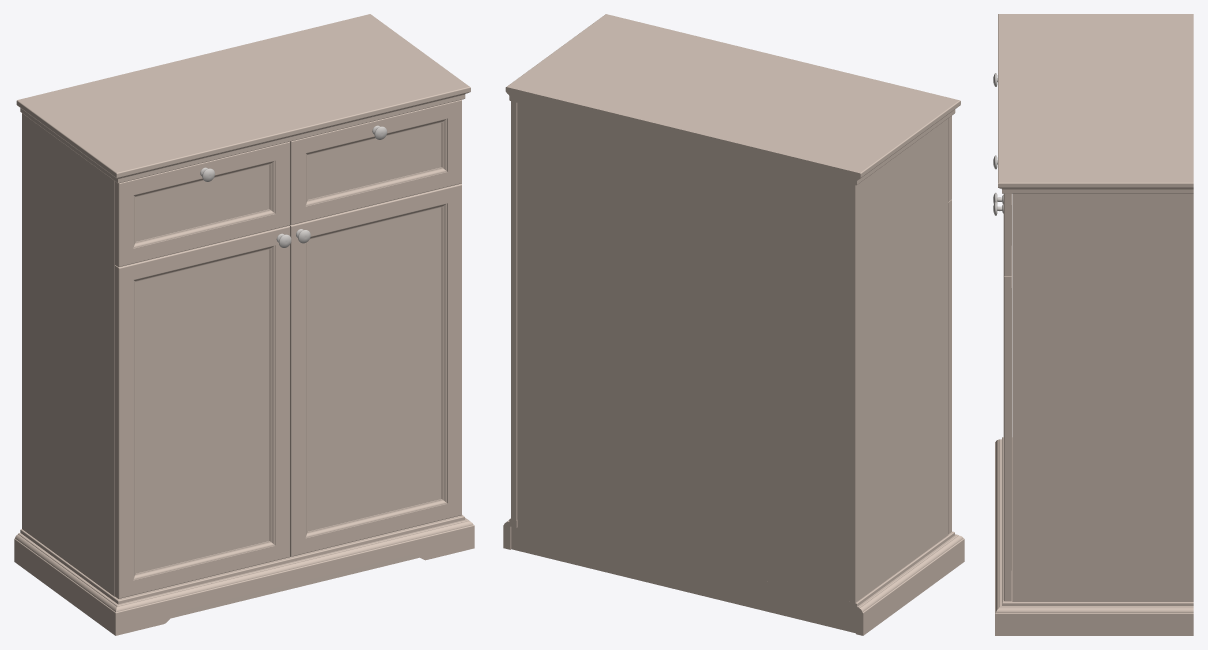
3 views of the same model, side by side, from view 1: azimuth 30°, elevation 25°; view 2: azimuth 150°, elevation 25°; view 3: azimuth 270°, elevation 25° (orthographic). The views are drawn at different scales.
Parts seen in each view (by area): view 1: Object_8, Object_84, Object_134, Object_67, Object_81, Object_9, Object_121, Object_58, Object_140, Object_120, Object_61, Object_66 (+5 smaller); view 2: Object_63, Object_76, Object_134, Object_67, Object_153, Object_69, Object_150, Object_148, Object_20, Object_135, Object_81, Object_65 (+2 smaller); view 3: Object_19, Object_67, Object_145, Object_9, Object_64, Object_144, Object_140, Object_141, Object_58, Object_6.
Boxes of the visible parts, left/top/right/bottom form: Object_8: left=308, top=207, right=441, bottom=531; Object_84: left=136, top=249, right=269, bottom=573; Object_134: left=22, top=113, right=114, bottom=596; Object_67: left=17, top=14, right=469, bottom=173; Object_81: left=115, top=225, right=289, bottom=598; Object_9: left=289, top=183, right=461, bottom=556; Object_121: left=115, top=141, right=289, bottom=267; Object_58: left=290, top=99, right=461, bottom=225; Object_140: left=115, top=521, right=474, bottom=635; Object_120: left=136, top=164, right=269, bottom=241; Object_61: left=308, top=122, right=441, bottom=199; Object_66: left=116, top=87, right=470, bottom=183; Object_63: left=517, top=102, right=683, bottom=560; Object_76: left=684, top=143, right=849, bottom=600; Object_134: left=855, top=119, right=947, bottom=602; Object_67: left=506, top=14, right=959, bottom=173; Object_153: left=511, top=527, right=855, bottom=633; Object_69: left=510, top=88, right=855, bottom=184; Object_150: left=856, top=535, right=964, bottom=635; Object_148: left=517, top=520, right=849, bottom=608; Object_20: left=511, top=101, right=515, bottom=520; Object_135: left=850, top=184, right=854, bottom=602; Object_81: left=948, top=200, right=951, bottom=534; Object_65: left=856, top=100, right=960, bottom=185; Object_19: left=1012, top=193, right=1193, bottom=601; Object_67: left=998, top=14, right=1193, bottom=183; Object_145: left=995, top=608, right=1193, bottom=635; Object_9: left=1003, top=275, right=1011, bottom=601; Object_64: left=998, top=183, right=1193, bottom=193; Object_144: left=999, top=599, right=1193, bottom=607; Object_140: left=995, top=439, right=999, bottom=613; Object_141: left=999, top=437, right=1004, bottom=606; Object_58: left=1003, top=193, right=1011, bottom=276; Object_6: left=1011, top=246, right=1011, bottom=570.
Size of the model in its own units: 1158 by 1420 by 571.
